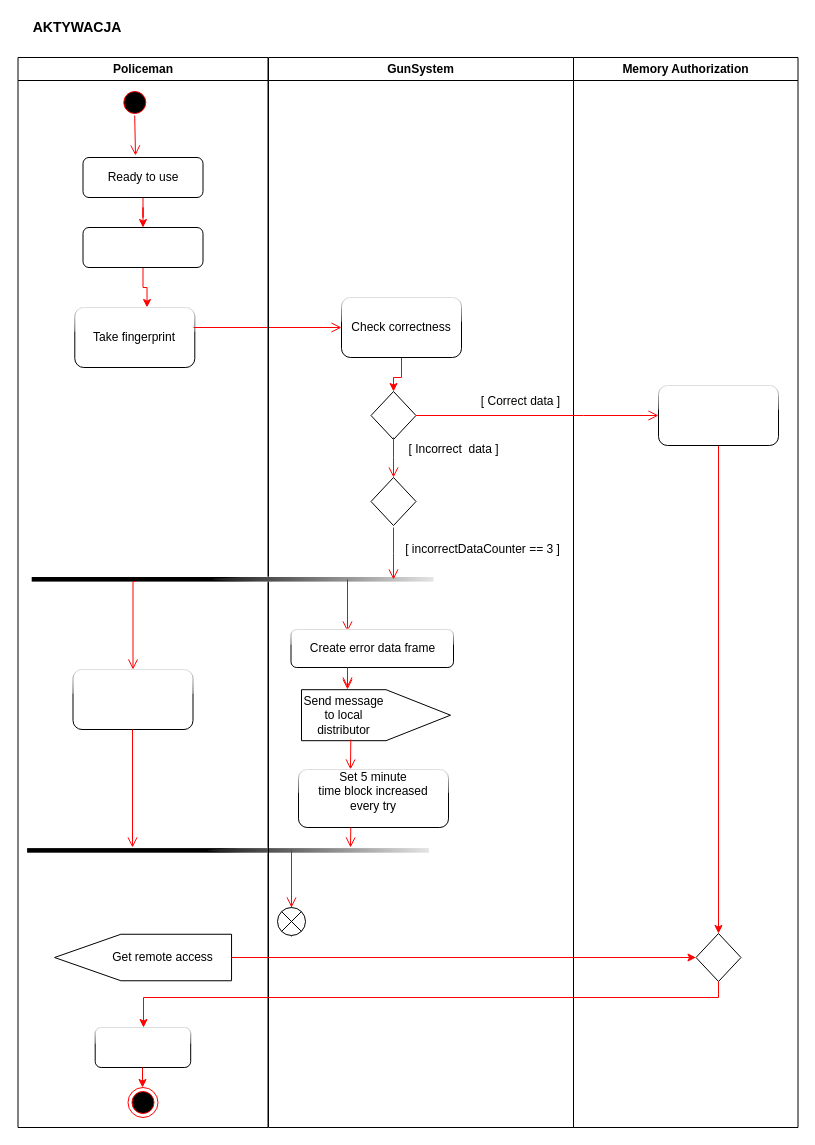
This 815x1145 diagram has some shape labels left out. The shapes that lost their labels are listed below. From the top down, each one's centre as x and y in pixels, then its label:
the point at 142,247: Turn on the gun
the point at 718,415: Authorization
the point at 132,699: Try to authorize
the point at 142,1047: Act
